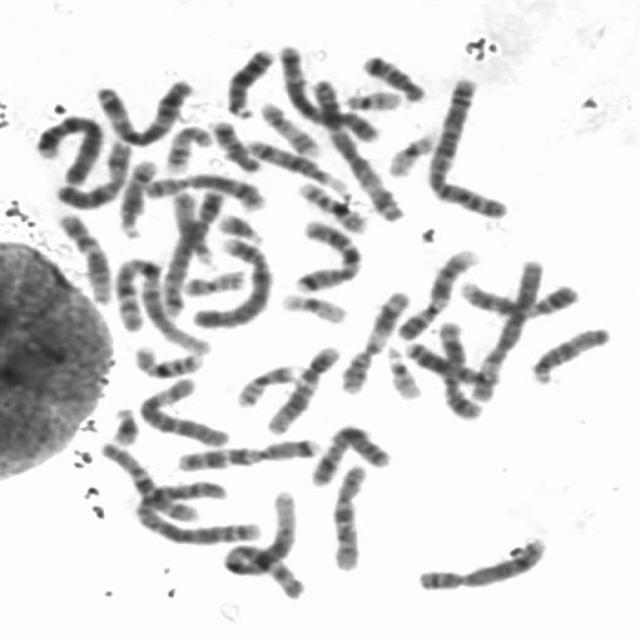A1: (105, 250, 217, 356), (216, 482, 310, 600)
A2: (422, 69, 516, 219), (128, 473, 268, 545)
A3: (308, 69, 410, 222), (89, 69, 199, 147)
B4: (188, 229, 278, 330), (29, 107, 109, 185)
B5: (273, 35, 386, 144), (154, 180, 229, 317)
C10: (94, 434, 204, 524), (326, 456, 374, 574)
C11: (336, 282, 416, 396), (431, 314, 488, 422)
C12: (262, 338, 347, 437), (51, 205, 118, 305)
C6: (468, 251, 551, 404), (133, 370, 235, 448)
C7: (171, 429, 327, 473), (288, 211, 370, 294)
C8: (411, 529, 554, 593), (138, 165, 272, 212)
C9: (391, 240, 483, 342), (454, 271, 586, 320)
D13: (397, 334, 501, 394), (219, 39, 281, 120)
D14: (242, 132, 351, 192), (111, 151, 163, 240)
D15: (525, 318, 616, 385), (167, 185, 219, 266)
E16: (292, 173, 373, 234), (128, 337, 210, 379)
E17: (254, 94, 326, 158), (159, 118, 218, 174)
E18: (357, 46, 432, 103), (204, 112, 267, 173)
F19: (381, 124, 442, 178), (276, 284, 354, 325)
F20: (231, 356, 303, 408), (178, 262, 250, 297)
G21: (212, 205, 269, 244), (105, 398, 145, 448)
G22: (380, 340, 427, 400), (339, 82, 408, 112)
X: (49, 132, 136, 211), (304, 417, 398, 489)
